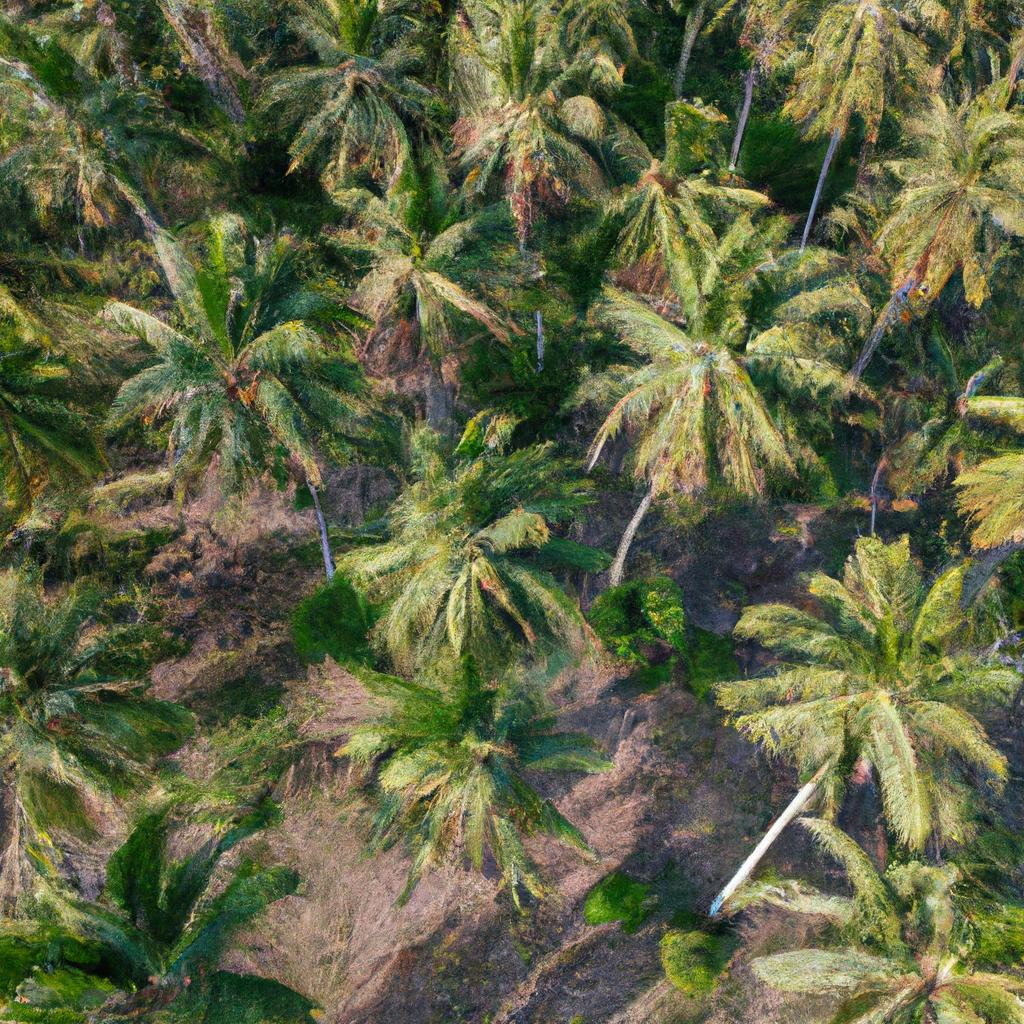coconut_tree: (567, 145, 873, 507), (727, 526, 1023, 853), (69, 210, 400, 489), (342, 413, 590, 686)
